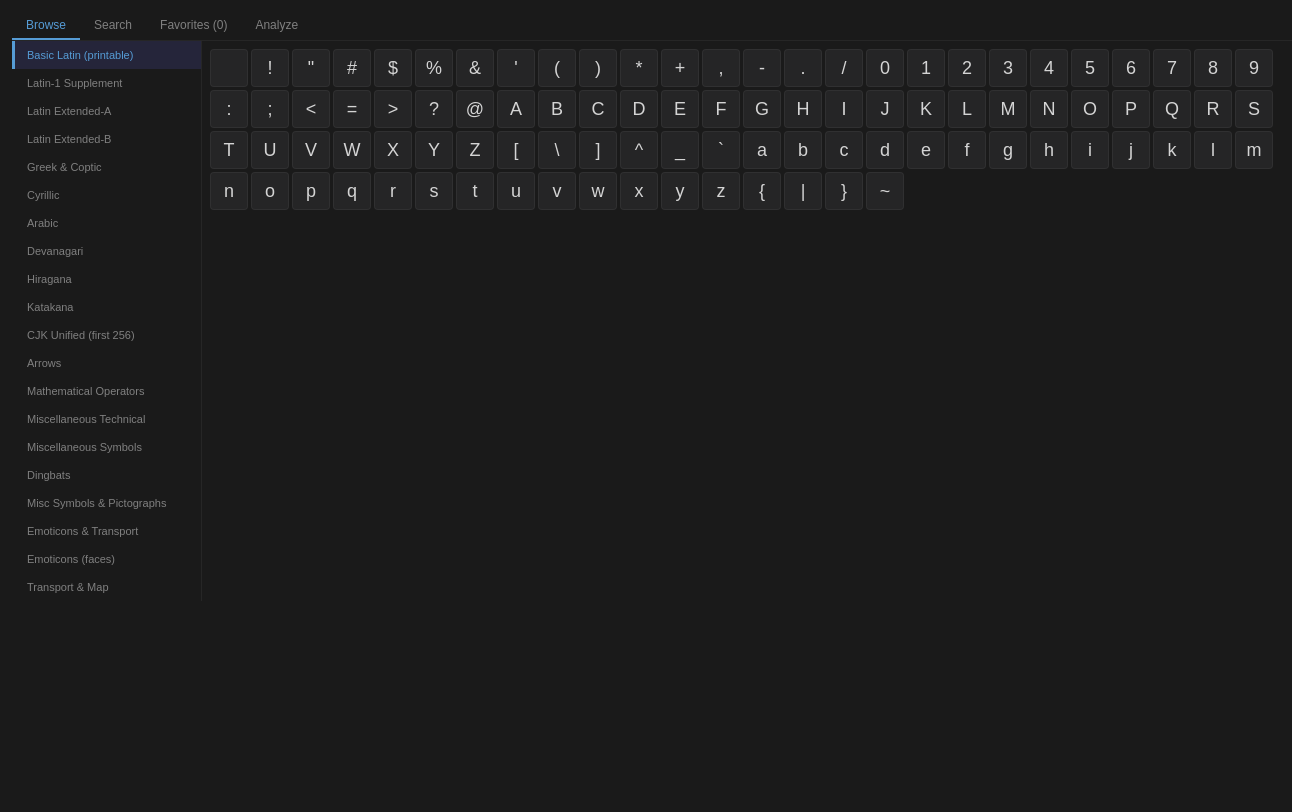
Test case: UnicodePanel — search and favorites › Given a name fragment, then it returns matching named characters
This screenshot has width=1292, height=812.
Click the button "Search" at point(113, 26), box [80,12,146,40]
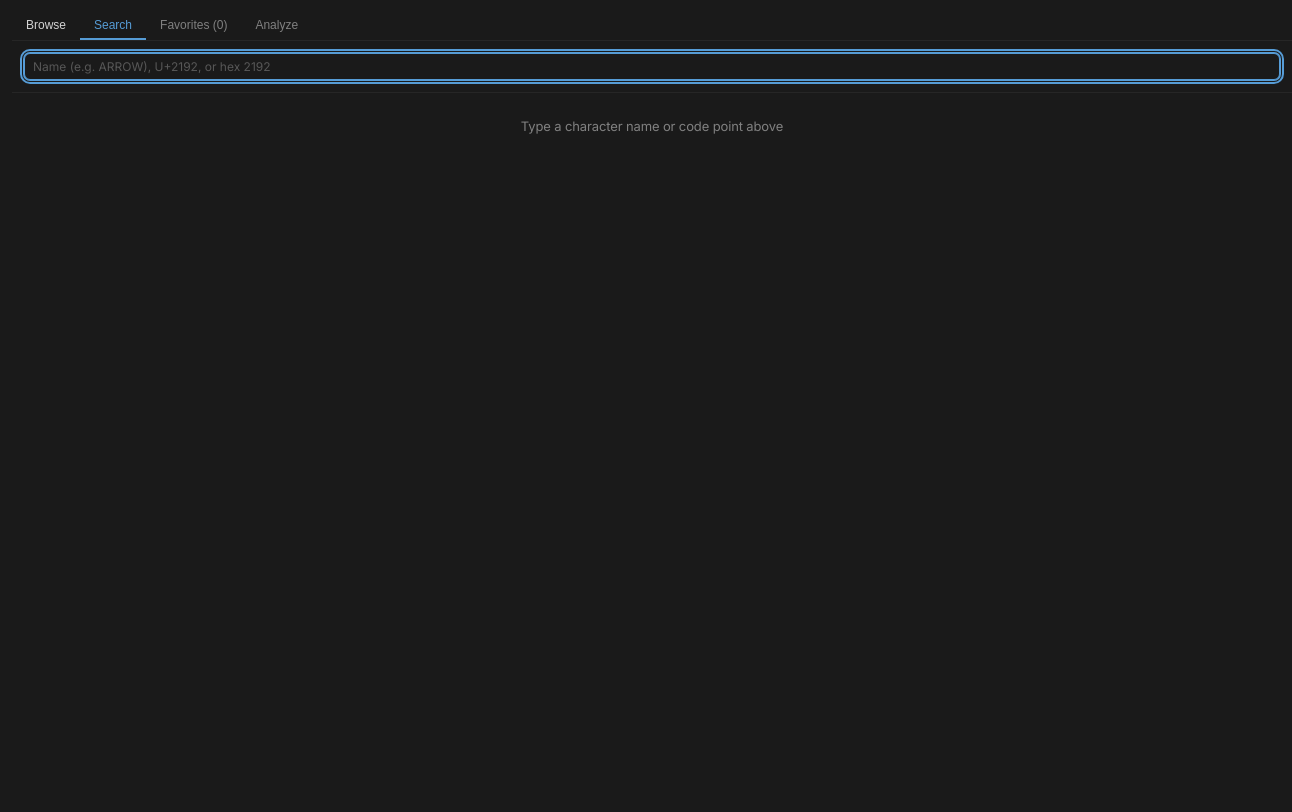
Type "RIGHTWARDS ARROW" into the field with placeholder "Name (e.g. ARROW), U+2192, or hex 2192" at point(652, 66), box [24,53,1280,80]
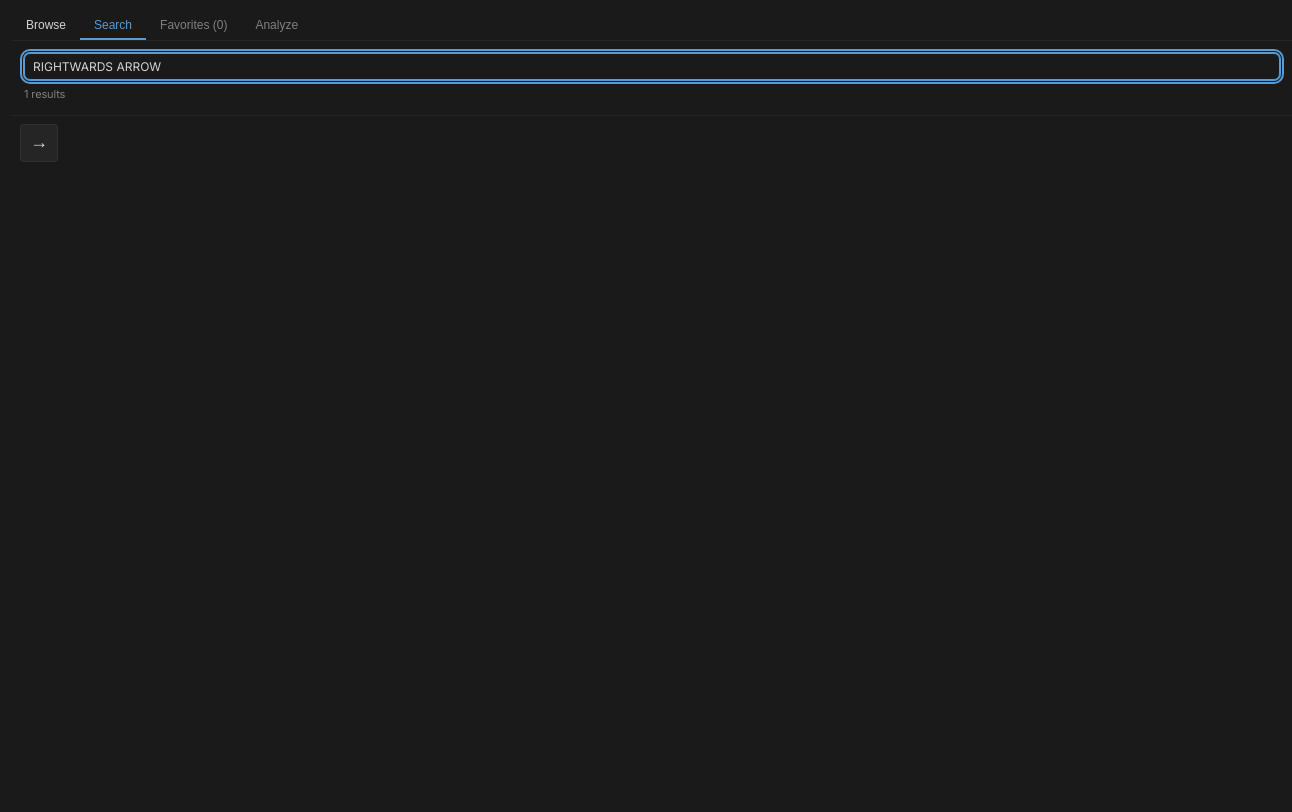
expect the text "1 results" does not show "0 results": met, box [24,87,65,101]
expect the button titled "RIGHTWARDS ARROW U+2192" is shown: met, box [20,124,58,162]
